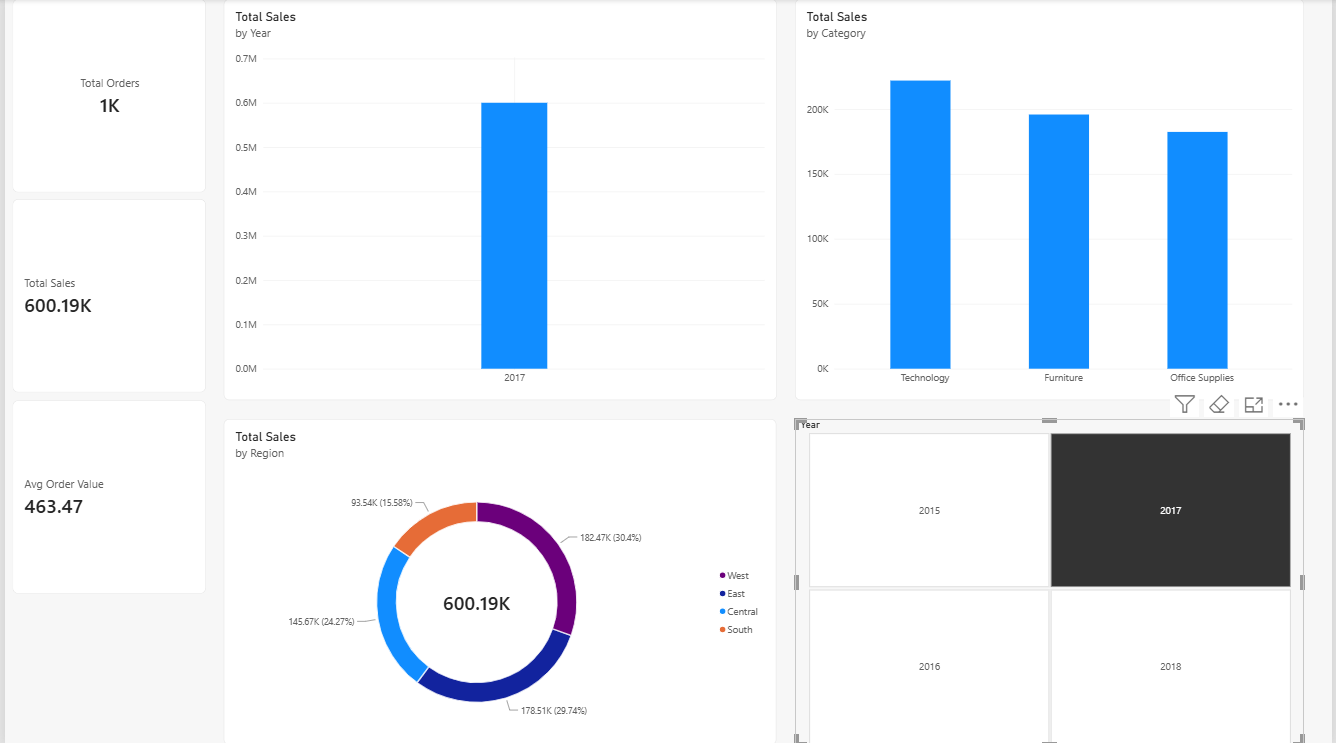

The dashboard page shown, as its layout file describes it:
{"tool":"powerbi","page":{"name":"Page 1","canvas":[1920,1080],"ordinal":0},"visuals":[{"type":"cardVisual","fields":{"Data":["Calendar.Total Orders"]},"box":[10,0,280,280],"z":0},{"type":"cardVisual","fields":{"Data":["sales.Total Sales"]},"box":[10,290,280,280],"z":1},{"type":"cardVisual","fields":{"Data":["Calendar.Avg Order Value"]},"box":[10,580,280,280],"z":2},{"type":"clusteredColumnChart","fields":{"Category":["Calendar.Year"],"Y":["sales.Total Sales"]},"box":[316.7,0,800.7,580.4],"z":3},{"type":"clusteredColumnChart","fields":{"Category":["sales.Category"],"Y":["sales.Total Sales"]},"box":[1143.7,0,736.9,580.4],"z":4},{"type":"donutChart","fields":{"Category":["sales.Region"],"Y":["sales.Total Sales"]},"box":[316.7,608,799.9,472.3],"z":5},{"type":"slicer","fields":{"Values":["Calendar.Year"]},"box":[1143.7,608,736.5,472.3],"z":6}]}

Visuals, with their boxes in screenshot pixels (x1, y1, x2, y2), scaled from the page's 1920x1080 canvas onto the 1336x743 screenshot:
cardVisual - Calendar.Total Orders: (left=7, top=0, right=202, bottom=193)
cardVisual - sales.Total Sales: (left=7, top=200, right=202, bottom=392)
cardVisual - Calendar.Avg Order Value: (left=7, top=399, right=202, bottom=592)
clusteredColumnChart - Calendar.Year x sales.Total Sales: (left=220, top=0, right=778, bottom=399)
clusteredColumnChart - sales.Category x sales.Total Sales: (left=796, top=0, right=1309, bottom=399)
donutChart - sales.Region x sales.Total Sales: (left=220, top=418, right=777, bottom=742)
slicer - Calendar.Year: (left=796, top=418, right=1308, bottom=742)
